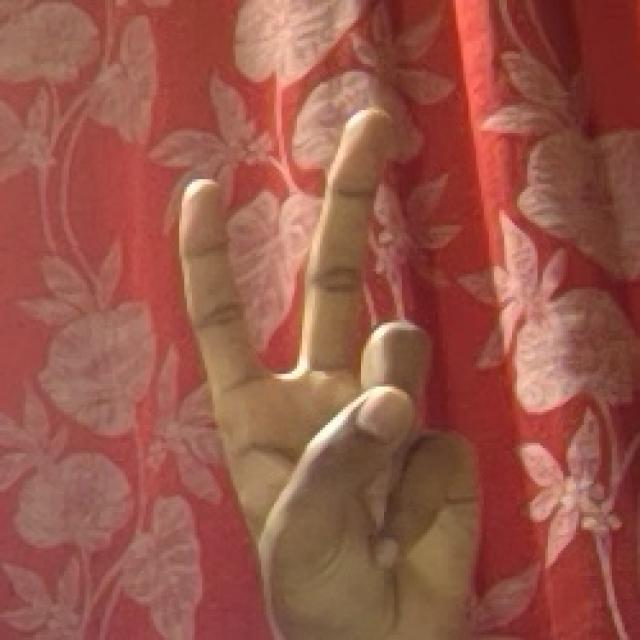Numeric-2: (189, 92, 482, 620)
